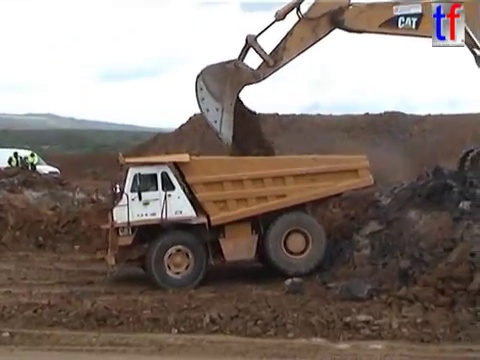excavator: (190, 1, 480, 189)
truck: (95, 148, 376, 292)
worker: (6, 148, 25, 186), (23, 149, 40, 184)
